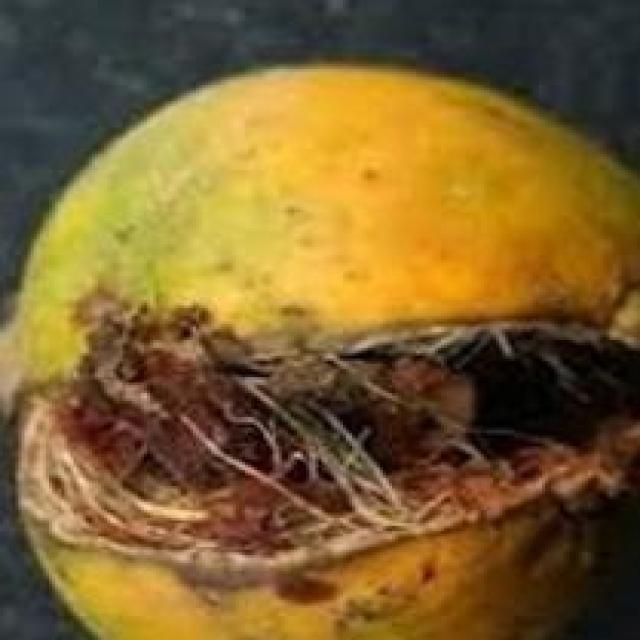damaged: (0, 58, 637, 637)
